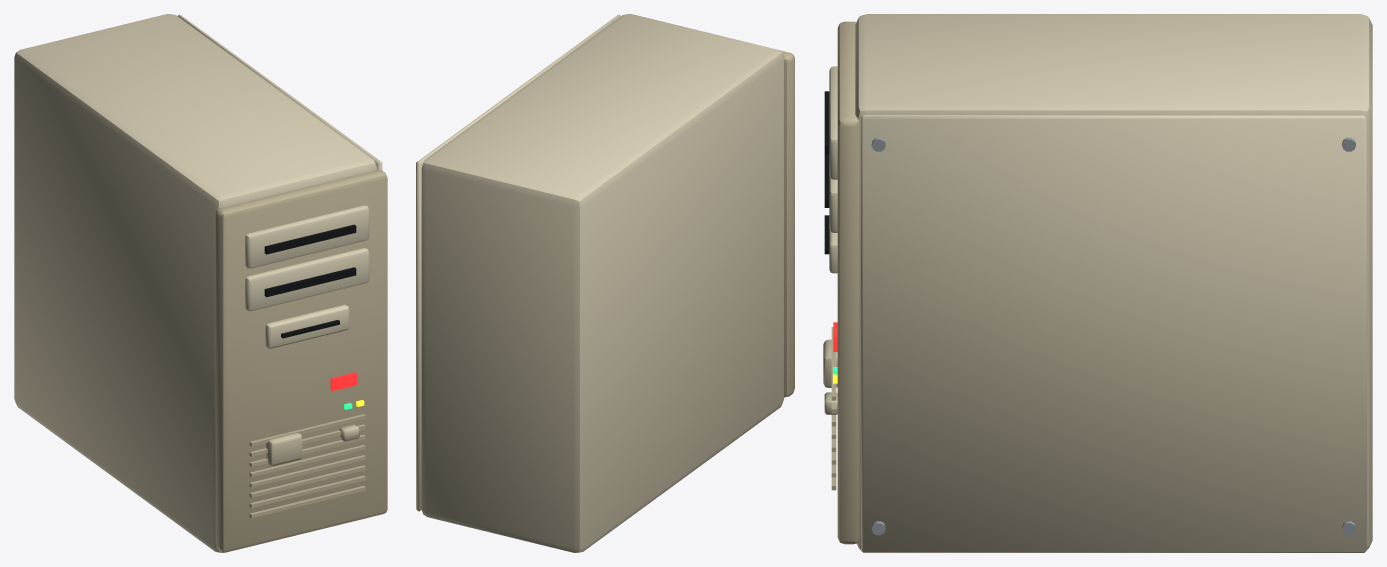
The picture shows the model from 3 angles, left to right: view 1: azimuth 30°, elevation 25°; view 2: azimuth 150°, elevation 25°; view 3: azimuth 270°, elevation 25°; orthographic projection. The views are drawn at different scales.
Visible parts, largest first — view 1: tower, power, side_panel; view 2: tower, side_panel; view 3: side_panel, tower.
Boxes of the visible parts, x1,y1,x2,y2 form: tower: (14,14,387,552); power: (266,433,302,465); side_panel: (177,14,382,170); tower: (421,14,794,552); side_panel: (416,14,620,511); side_panel: (861,115,1366,552); tower: (824,14,1372,549).
Bounding box in the file's own units: 0.2125 × 0.42 × 0.467.
